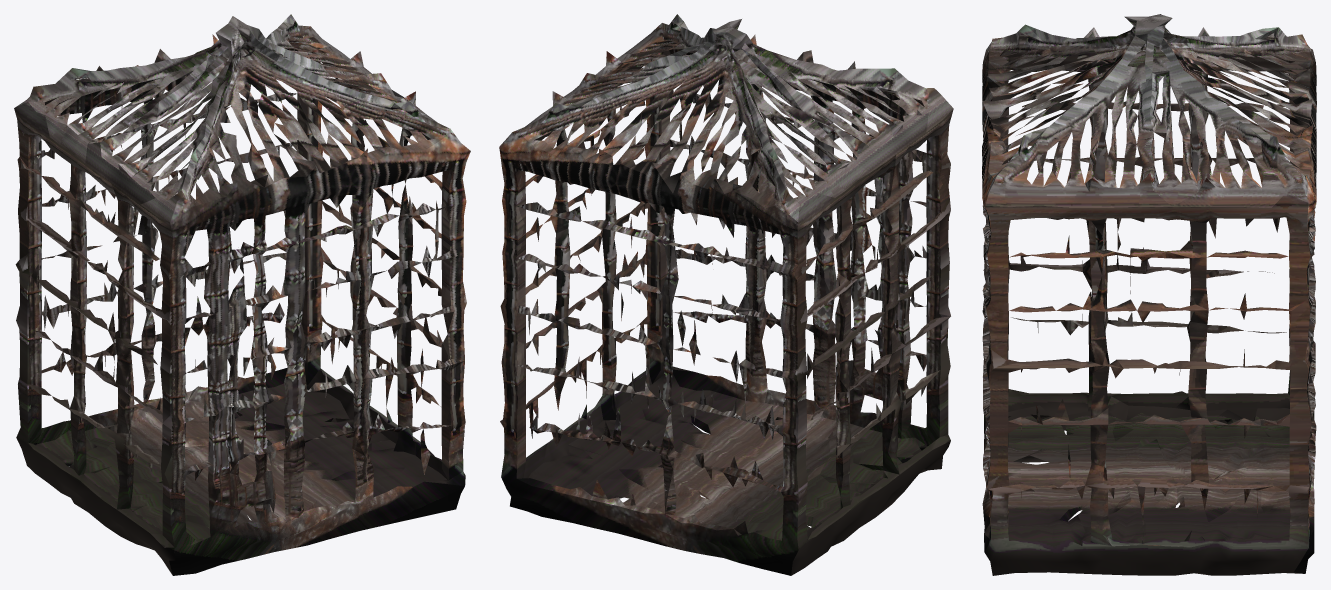
The model's file is cage.glb.
3 renders of one model, left to right at view 1: azimuth 30°, elevation 25°; view 2: azimuth 150°, elevation 25°; view 3: azimuth 270°, elevation 25°, orthographic. The views are drawn at different scales.
Parts seen in each view (by area): view 1: geometry_0; view 2: geometry_0; view 3: geometry_0.
Part boxes in pixels (bbox=[...]): geometry_0: bbox=[14, 14, 470, 575]; geometry_0: bbox=[499, 14, 953, 575]; geometry_0: bbox=[982, 14, 1316, 575].
Size of the model in its own units: 1.5 by 2.2 by 1.36.
1 material, 1 textured.
